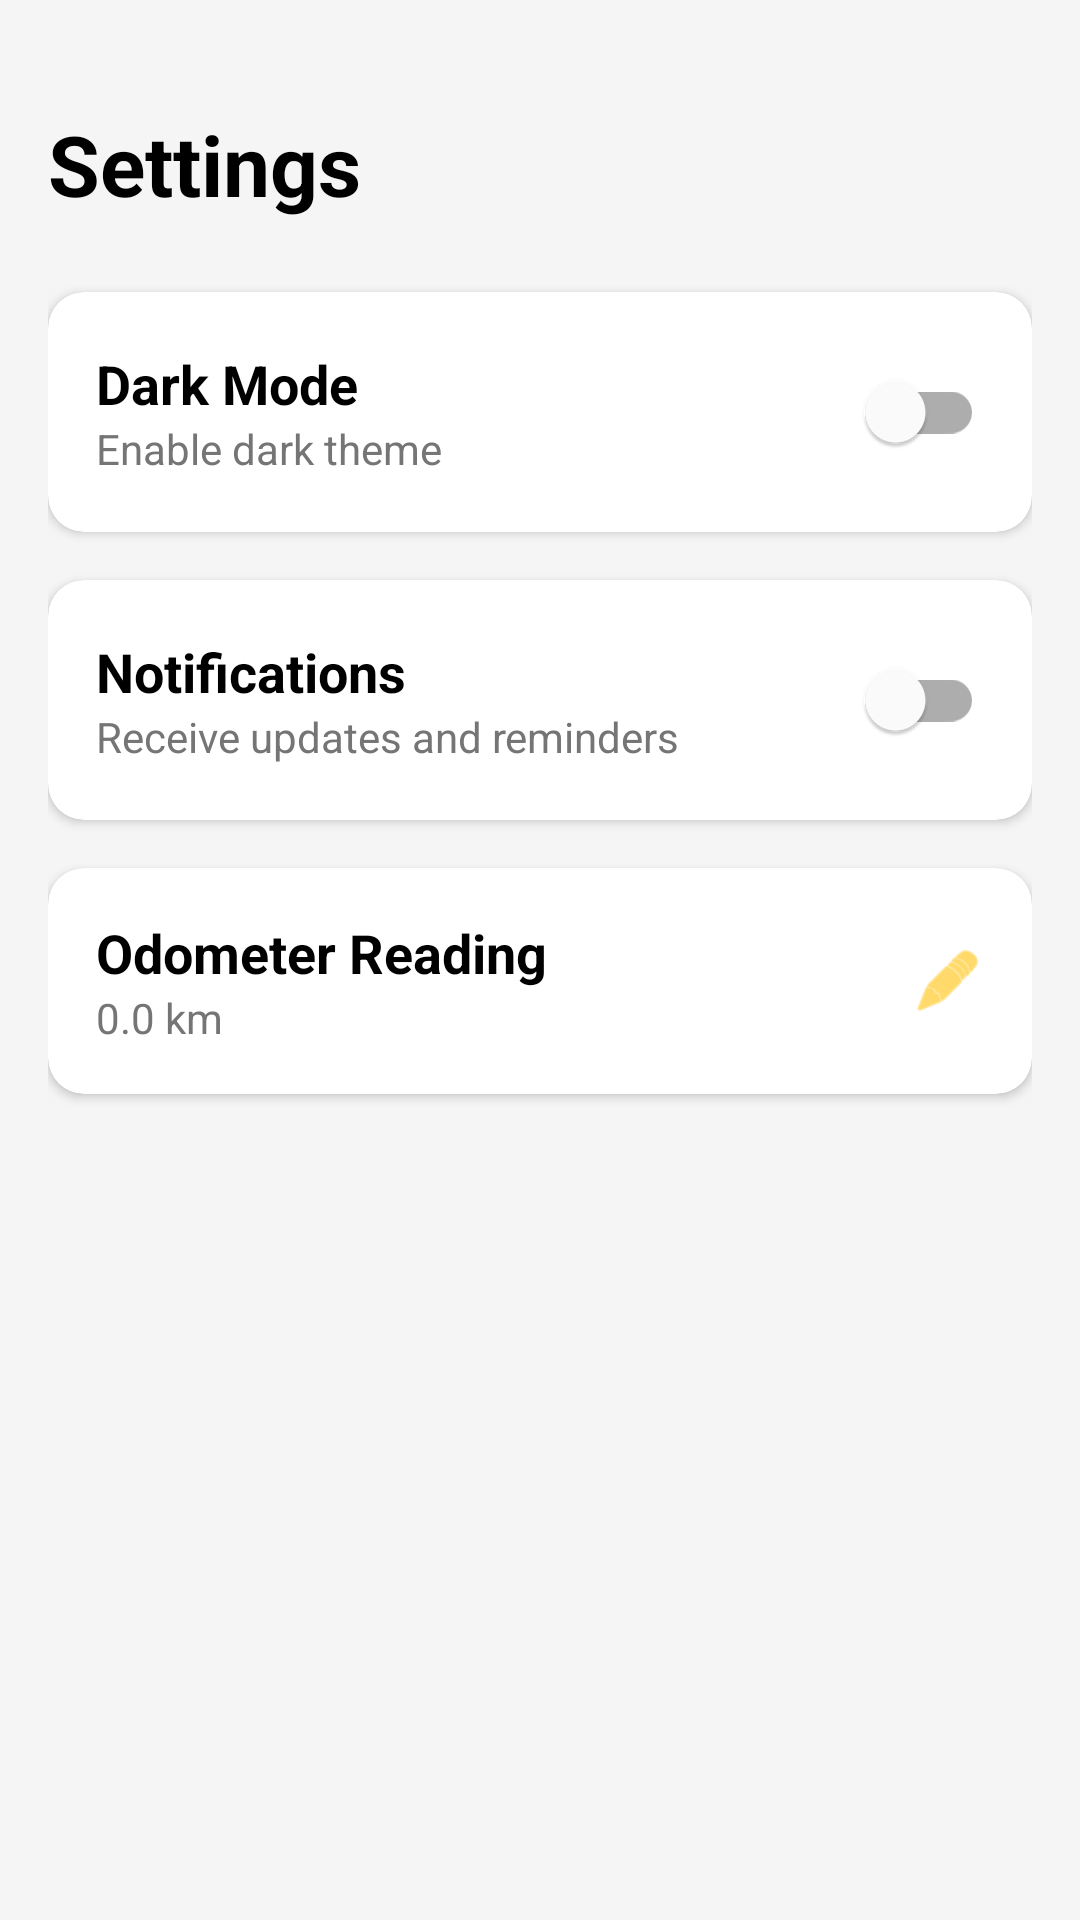

Icons on this 1080x1920 Android screen, each with the point to tap as (x=x, y=y):
edit: (x=947, y=980)
